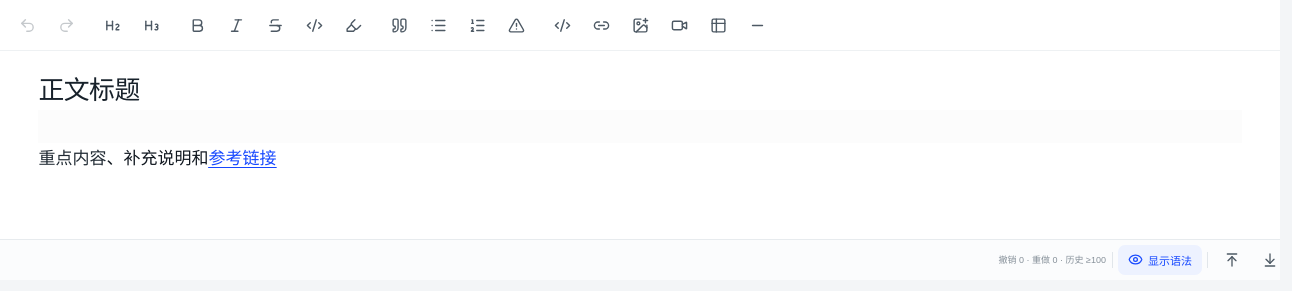
Test case: SourceEditor › defaults to Markdown presentation and can show syntax without changing the saved source
Expected: the field with class "cm-content" shows "正文标题", [38,76,1242,168]
Expected: the field with class "cm-content" shows "重点内容、补充说明和参考链接", [38,76,1242,168]
Click the button named "显示 Markdown 语法" at (1160, 260), box [1118,245,1202,275]
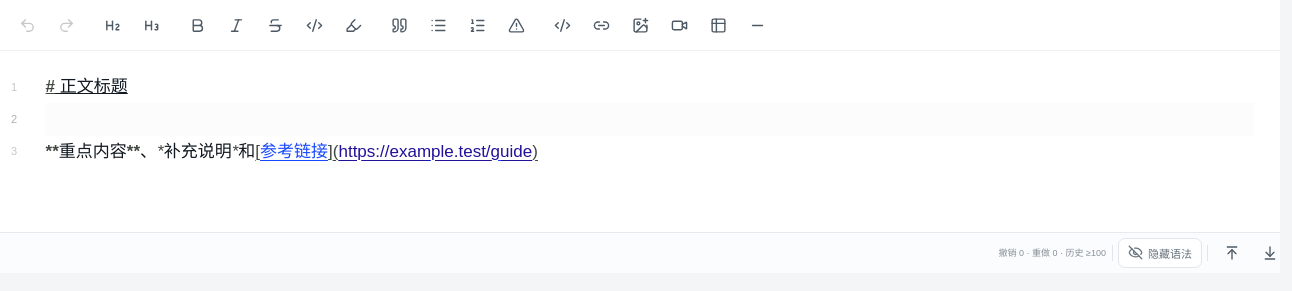
Expected: the field with class "cm-content" shows "# 正文标题", [46,77,1254,161]
Expected: the field with class "cm-content" shows "**重点内容**", [46,77,1254,161]
Expected: the field with class "cm-content" shows "https://example.test/guide", [46,77,1254,161]
